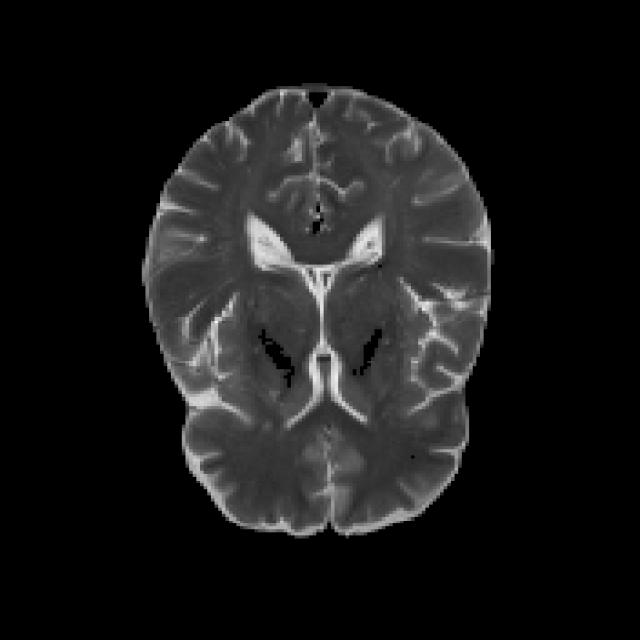CONTROL: (138, 80, 495, 535)
